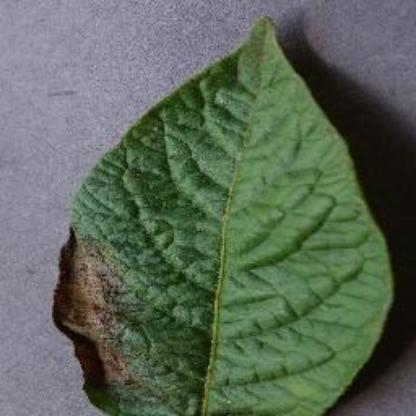Late-Blight: (48, 12, 396, 416)
